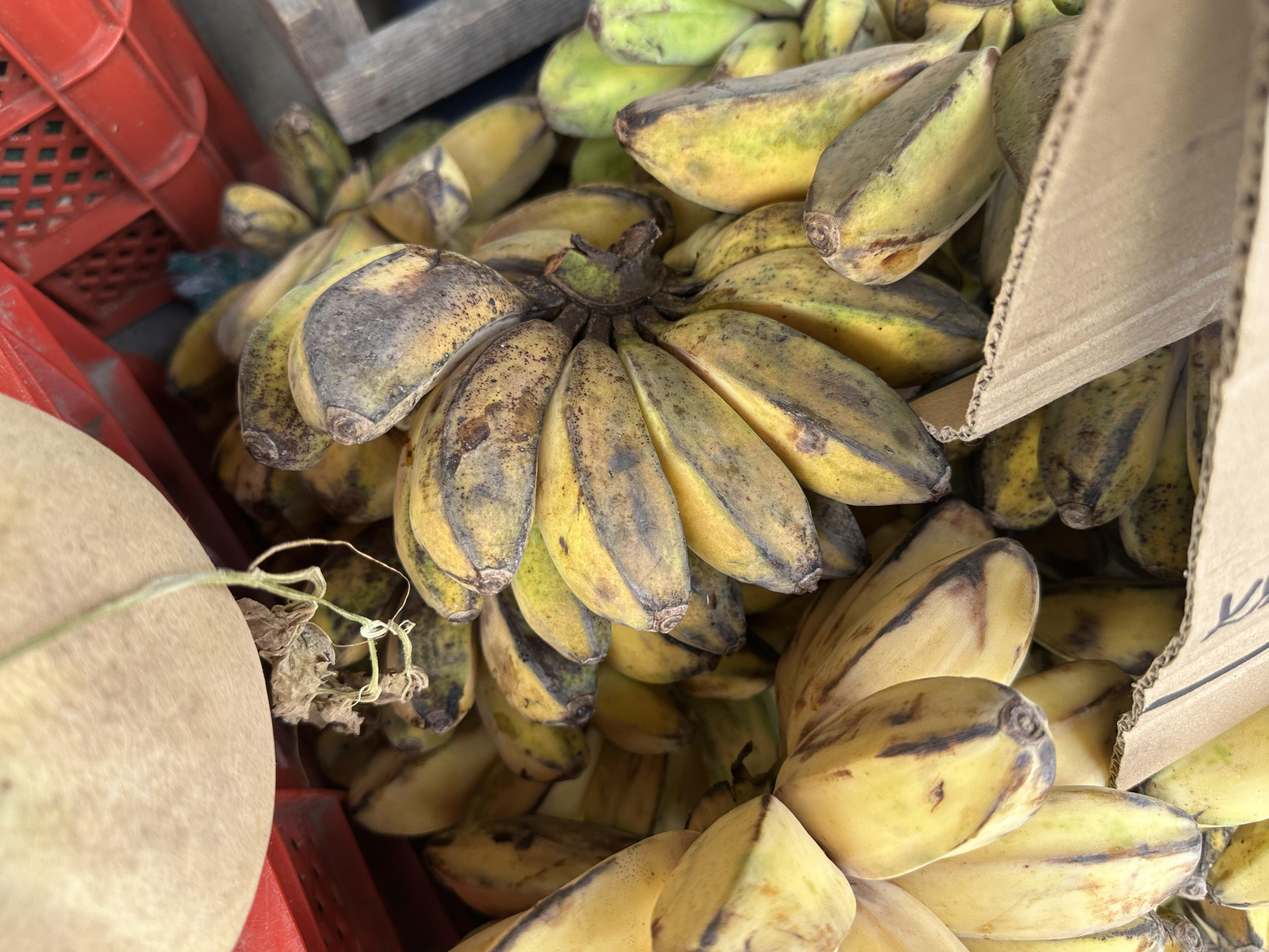ripe: (457, 498, 1200, 952), (237, 202, 986, 633), (618, 14, 1084, 288), (168, 96, 562, 395), (318, 653, 711, 836)
underripe: (323, 523, 745, 733), (537, 0, 896, 194), (981, 326, 1220, 576)
